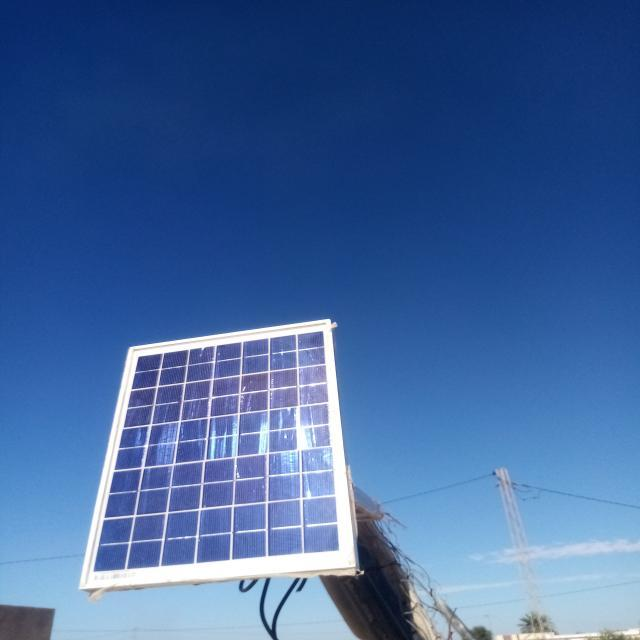no faulty: (86, 318, 359, 588)
